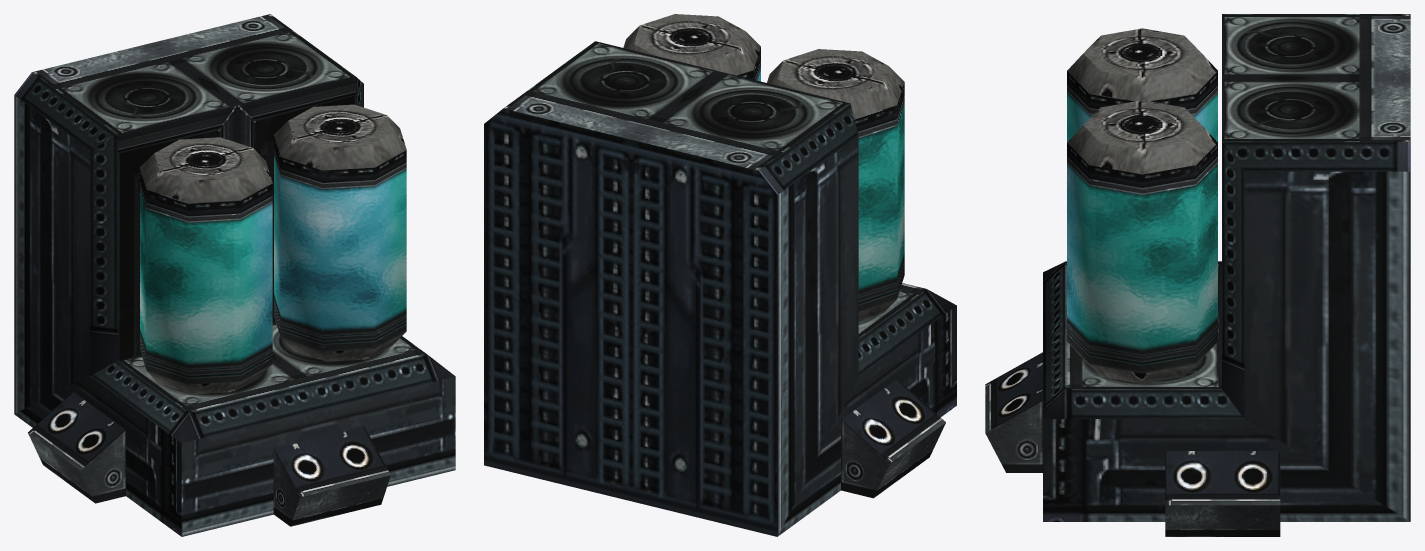
The model's file is Battery_medium_01.FBX.
3 renders of one model, left to right at view 1: azimuth 30°, elevation 25°; view 2: azimuth 150°, elevation 25°; view 3: azimuth 270°, elevation 25°, orthographic. The views are drawn at different scales.
Parts seen in each view (by area): view 1: Battery_medium_01; view 2: Battery_medium_01; view 3: Battery_medium_01.
Part boxes in pixels (x1,y1,x2,y2): Battery_medium_01: (14, 14, 455, 536); Battery_medium_01: (484, 14, 956, 536); Battery_medium_01: (985, 14, 1410, 536).
Bounding box in the file's own units: 216 × 192 × 200.
